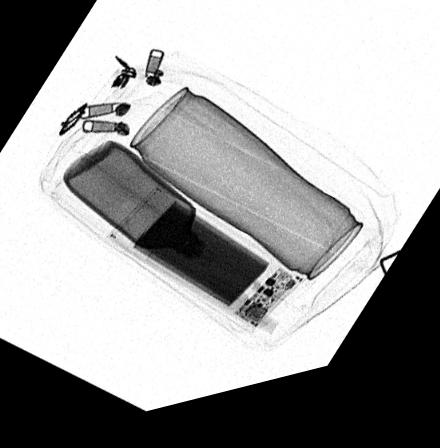Powerbank: (106, 190, 306, 343)
